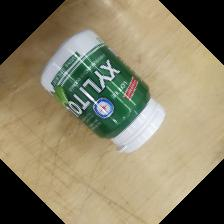Xylitol_green: (39, 27, 167, 156)
